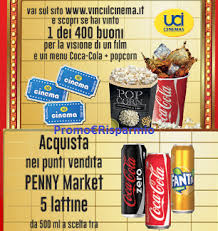coke: (118, 138, 174, 230)
